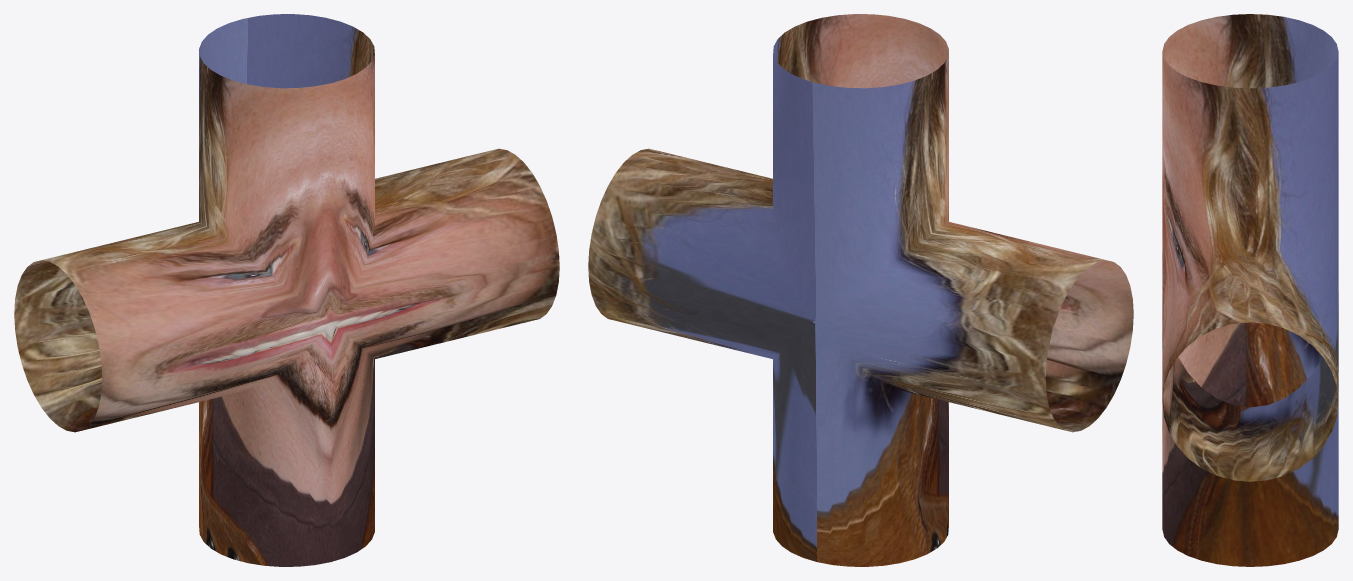
The model's file is kroeger-cross-joint.glb.
The picture shows the model from 3 angles, left to right: view 1: azimuth 30°, elevation 25°; view 2: azimuth 150°, elevation 25°; view 3: azimuth 270°, elevation 25°; orthographic projection.
Parts seen in each view (by area): view 1: Cross Joint; view 2: Cross Joint; view 3: Cross Joint.
Part boxes in pixels (bbox=[...]): Cross Joint: bbox=[14, 14, 559, 566]; Cross Joint: bbox=[588, 14, 1133, 566]; Cross Joint: bbox=[1162, 14, 1338, 566].
Bounding box in the file's own units: 6 × 6 × 2.
1 material, 1 textured.
